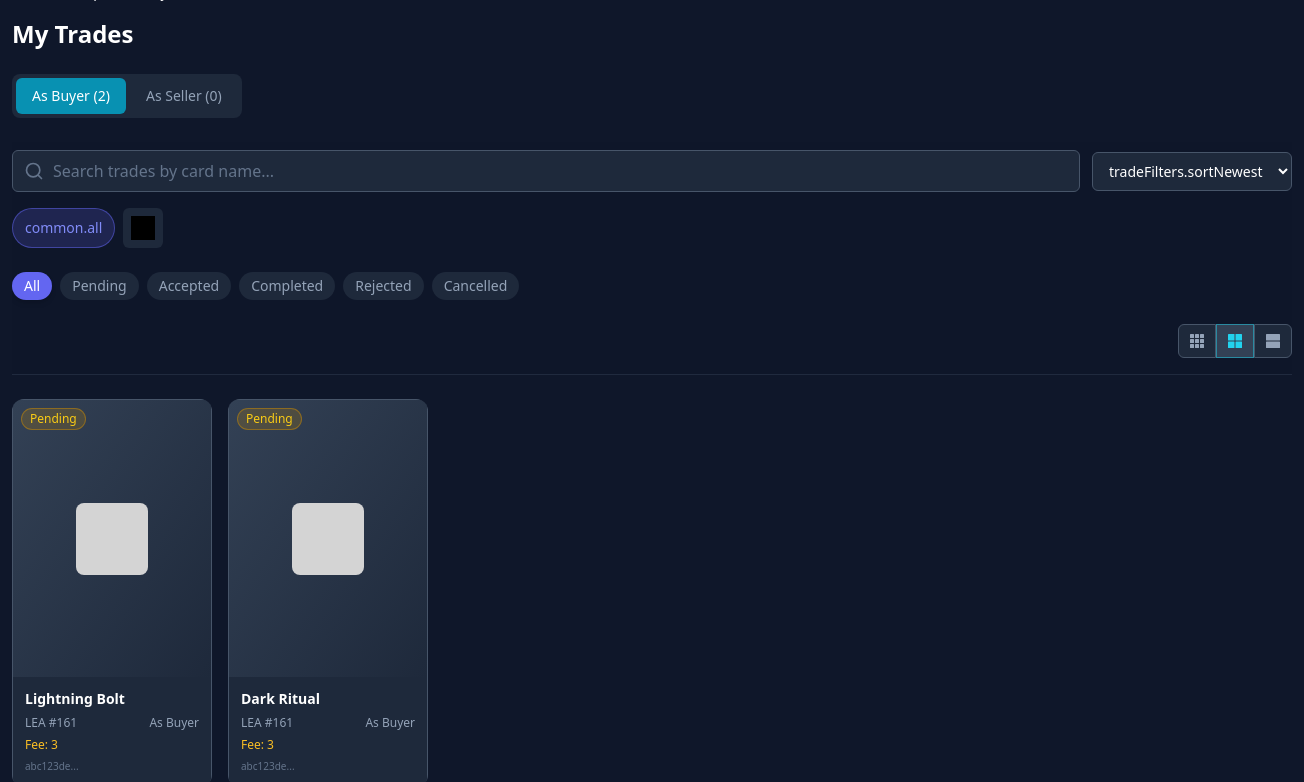
Test: MyTrades › clearing all filters restores the full list
This screenshot has width=1304, height=782.
Type "bolt" into the field with placeholder "Search trades by card name..." at (546, 171), box [12,150,1080,192]
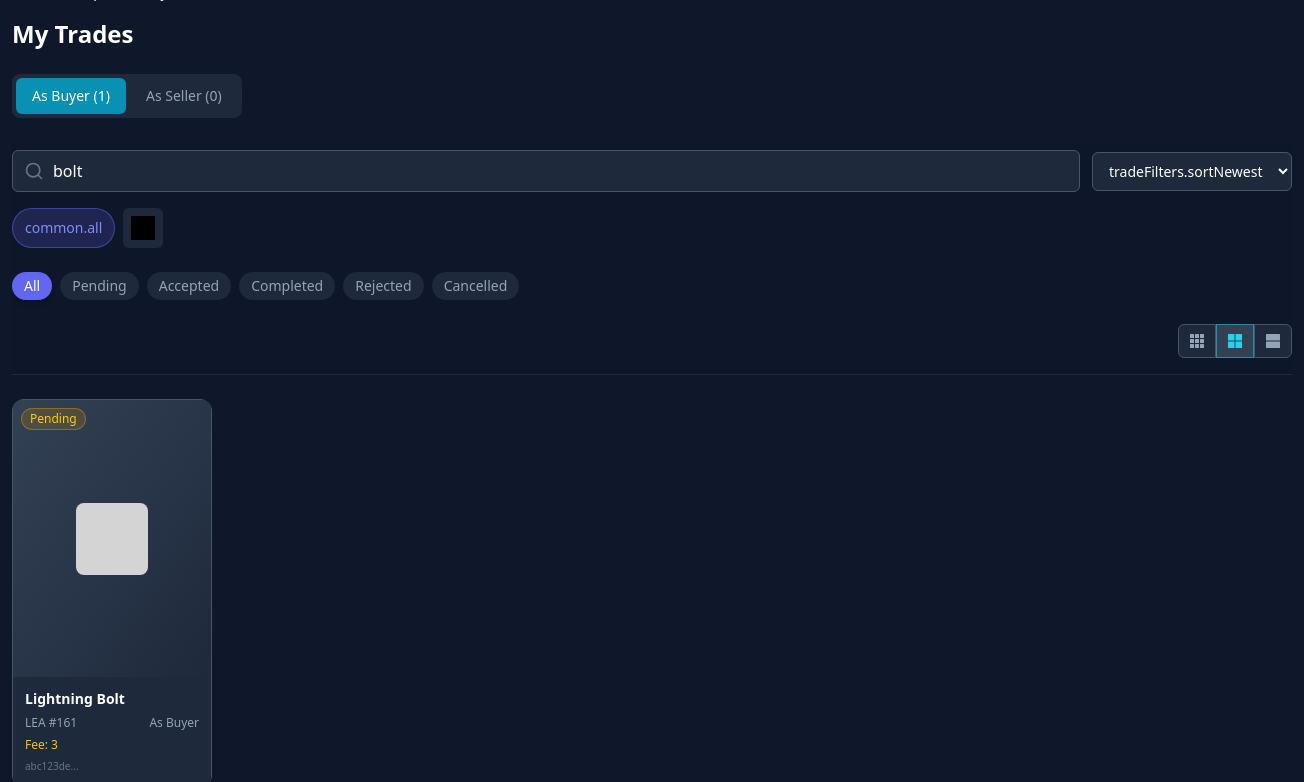
Clear the field with placeholder "Search trades by card name..." at (546, 171), box [12,150,1080,192]
(page scrolled)
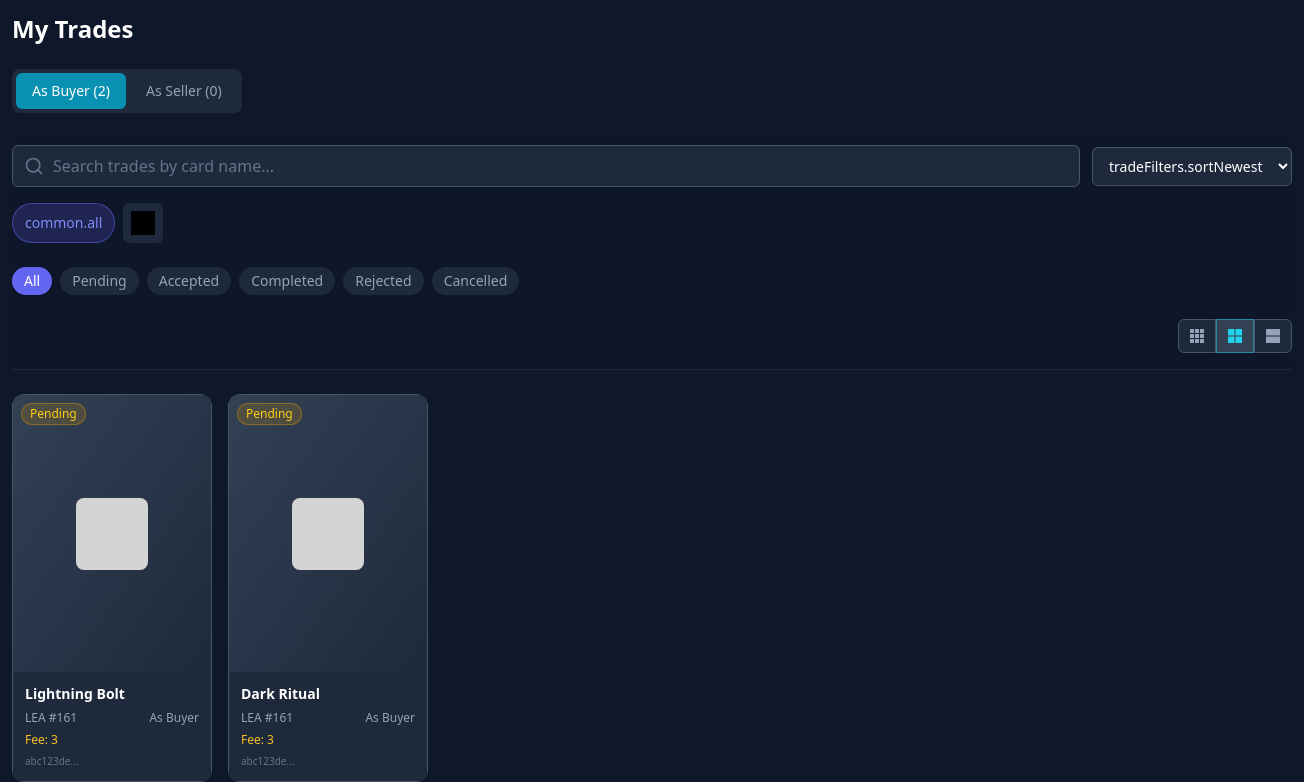
Expected: the element with test id "trade-card-1" is shown, [12,394,212,781]
Result: the element with test id "trade-card-2" is shown at [228,394,428,781]
